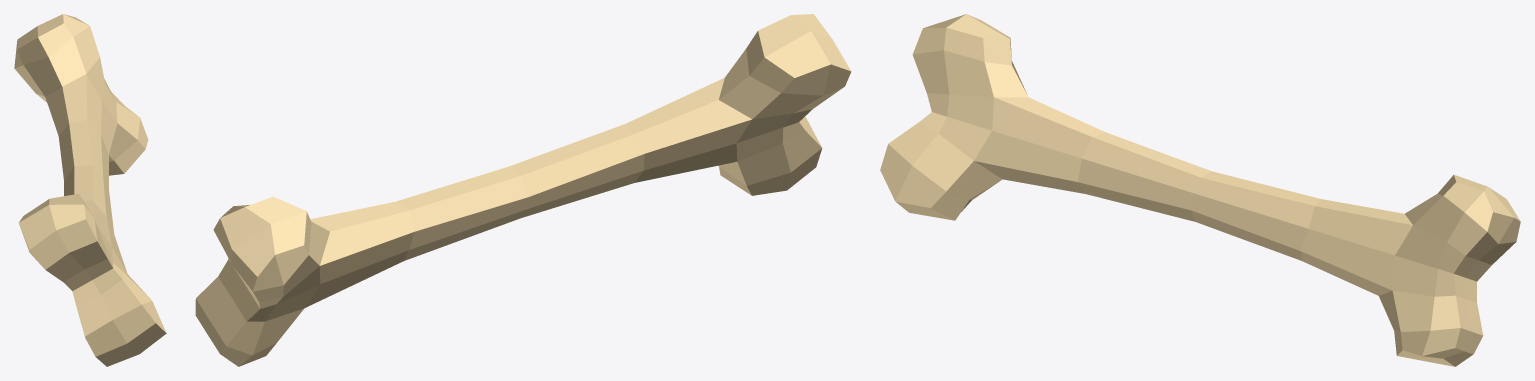
Rendered from Bone.fbx.
The picture shows the model from 3 angles, left to right: view 1: azimuth 30°, elevation 25°; view 2: azimuth 150°, elevation 25°; view 3: azimuth 270°, elevation 25°; orthographic projection. The views are drawn at different scales.
Visible parts, largest first — view 1: RootBone; view 2: RootBone; view 3: RootBone.
Boxes of the visible parts, box(x1,y1,x2,y2) form: RootBone: box(14, 14, 166, 366); RootBone: box(195, 14, 851, 366); RootBone: box(880, 14, 1520, 366).
Size of the model in its own units: 38.91 by 21.17 by 58.59.
